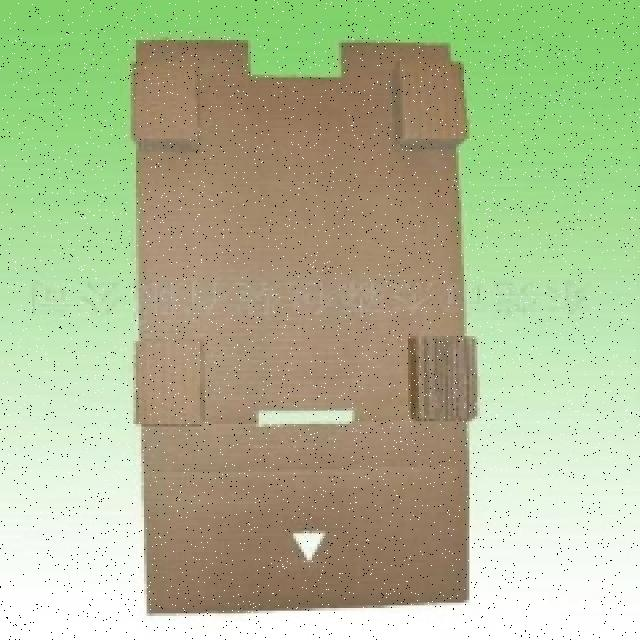box: (116, 17, 491, 616)
